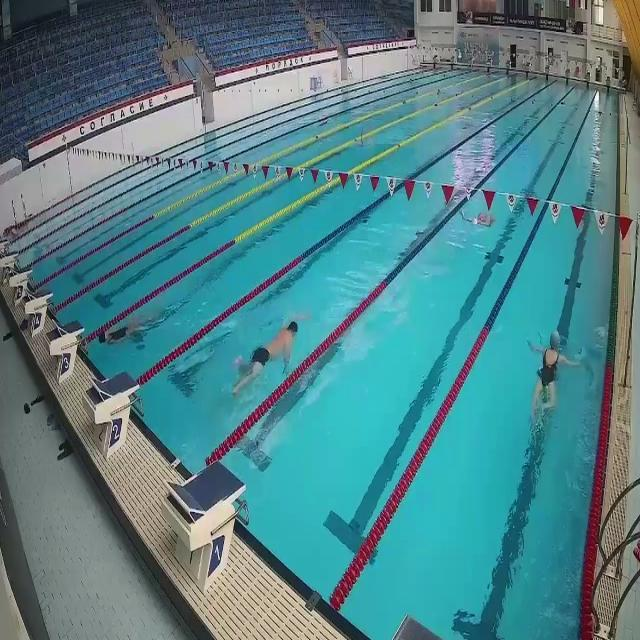Swimming: (232, 314, 302, 394), (527, 331, 587, 421), (100, 312, 146, 346), (459, 211, 496, 228)
